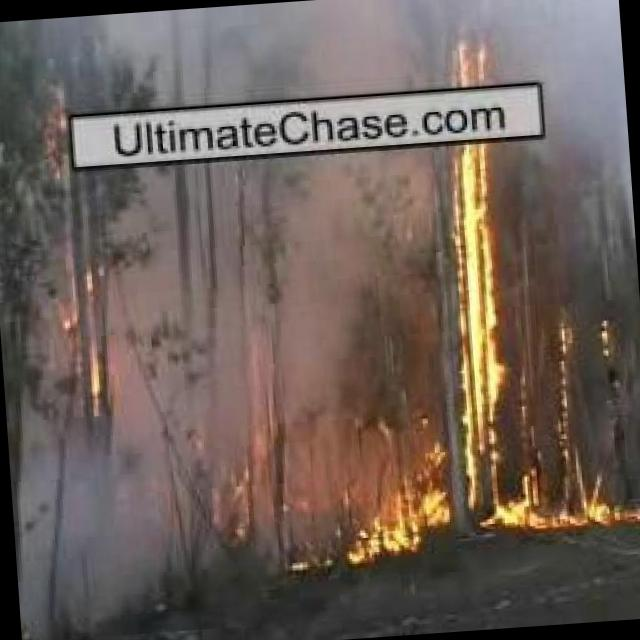Fire: (452, 142, 512, 528), (334, 440, 442, 560), (551, 485, 640, 531)
Smoke: (12, 153, 470, 462), (11, 0, 623, 116)
